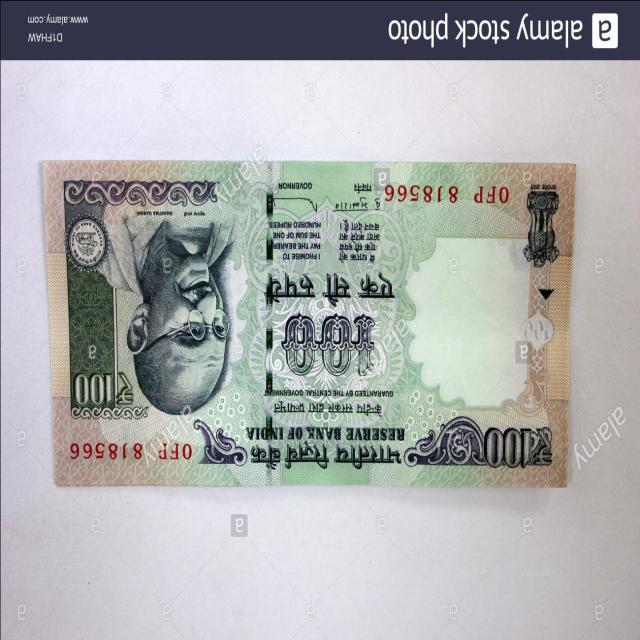100IndianRupees: (46, 158, 567, 492)
